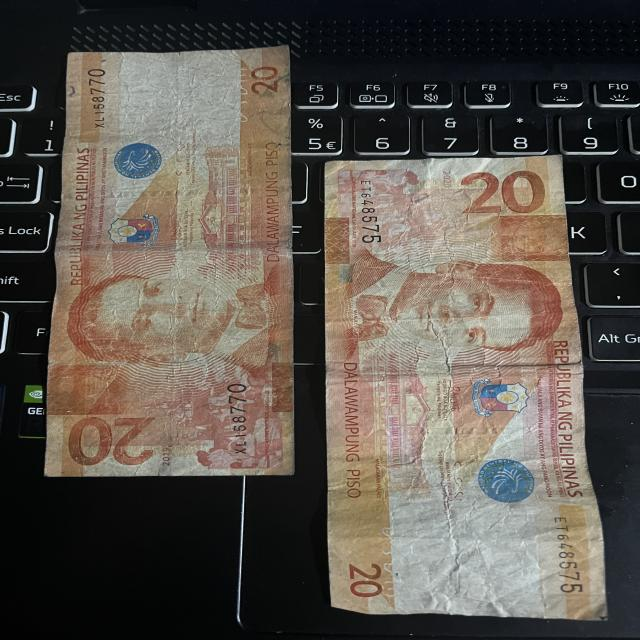concealed_value: (47, 362, 126, 413), (500, 212, 571, 260)
see_through_mark: (369, 524, 421, 603), (214, 61, 261, 142)
serial_number: (547, 514, 594, 604), (342, 172, 389, 253), (216, 374, 251, 459), (83, 64, 116, 137)
value: (62, 409, 166, 468), (448, 167, 550, 221)
